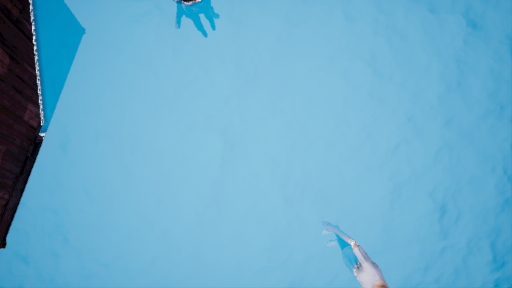person: (325, 215, 384, 288)
